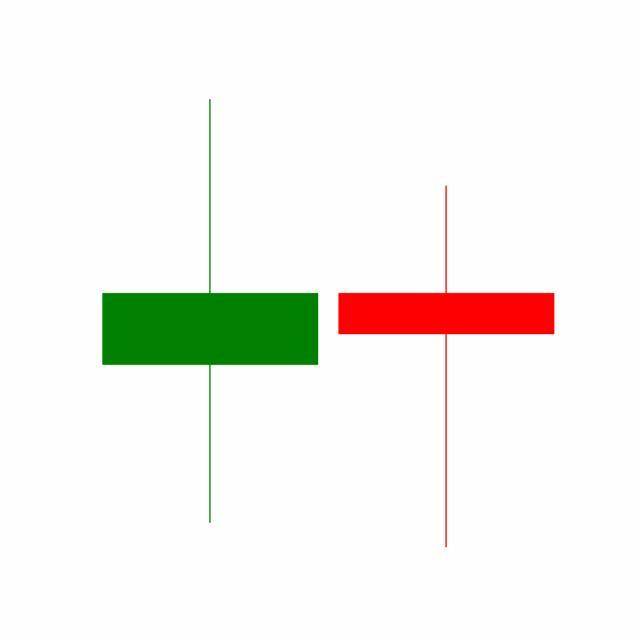Spinning Top: (328, 182, 566, 552)
